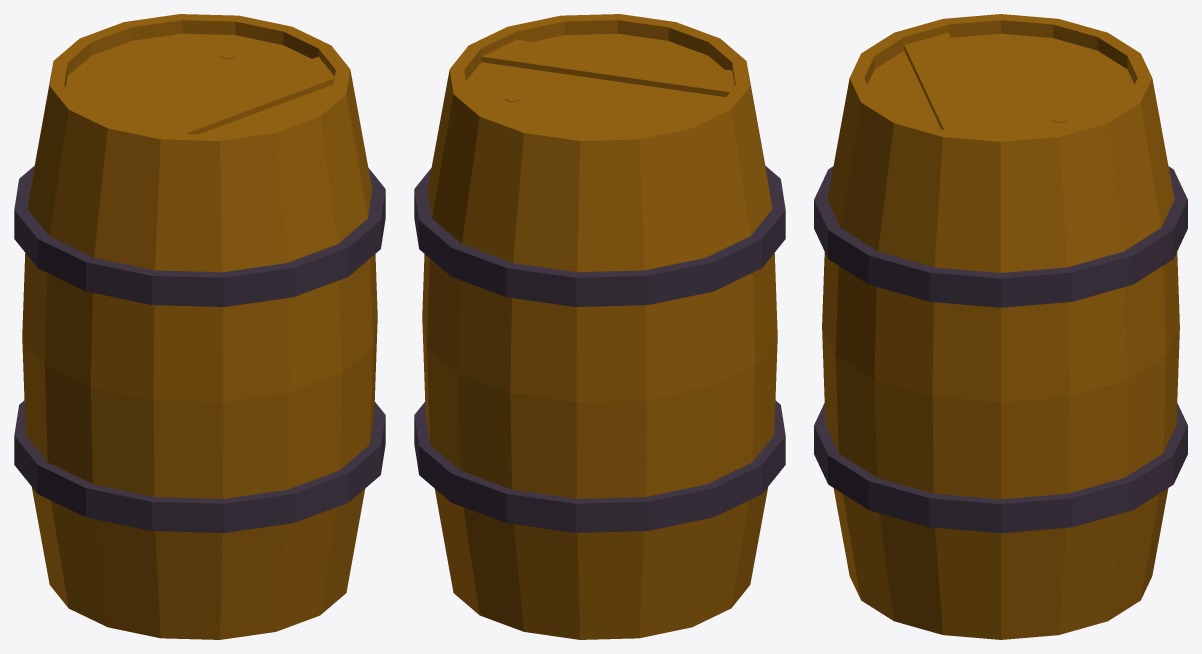
Rendered from Barrel.fbx.
3 renders of one model, left to right at view 1: azimuth 30°, elevation 25°; view 2: azimuth 150°, elevation 25°; view 3: azimuth 270°, elevation 25°, orthographic.
Parts seen in each view (by area): view 1: Cylinder; view 2: Cylinder; view 3: Cylinder.
Part boxes in pixels (left/top/right/bottom): Cylinder: left=14, top=14, right=385, bottom=639; Cylinder: left=414, top=14, right=785, bottom=639; Cylinder: left=814, top=14, right=1187, bottom=639.
Bounding box in the file's own units: 247 × 363 × 247.
